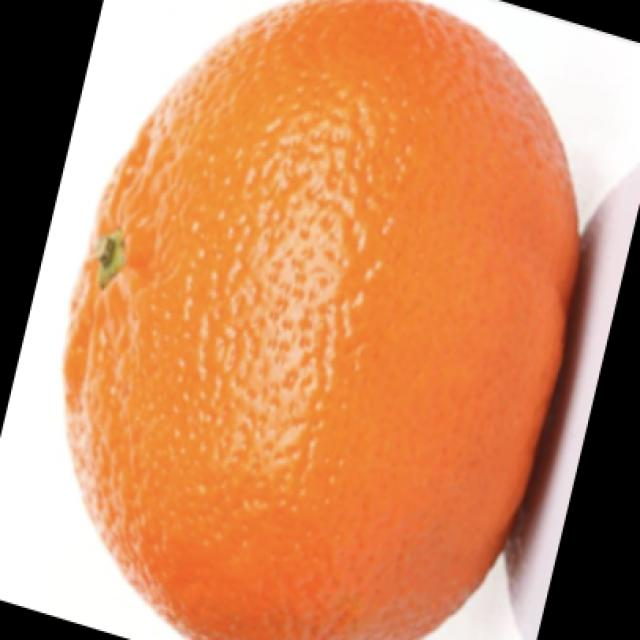fresh: (60, 0, 589, 640)
